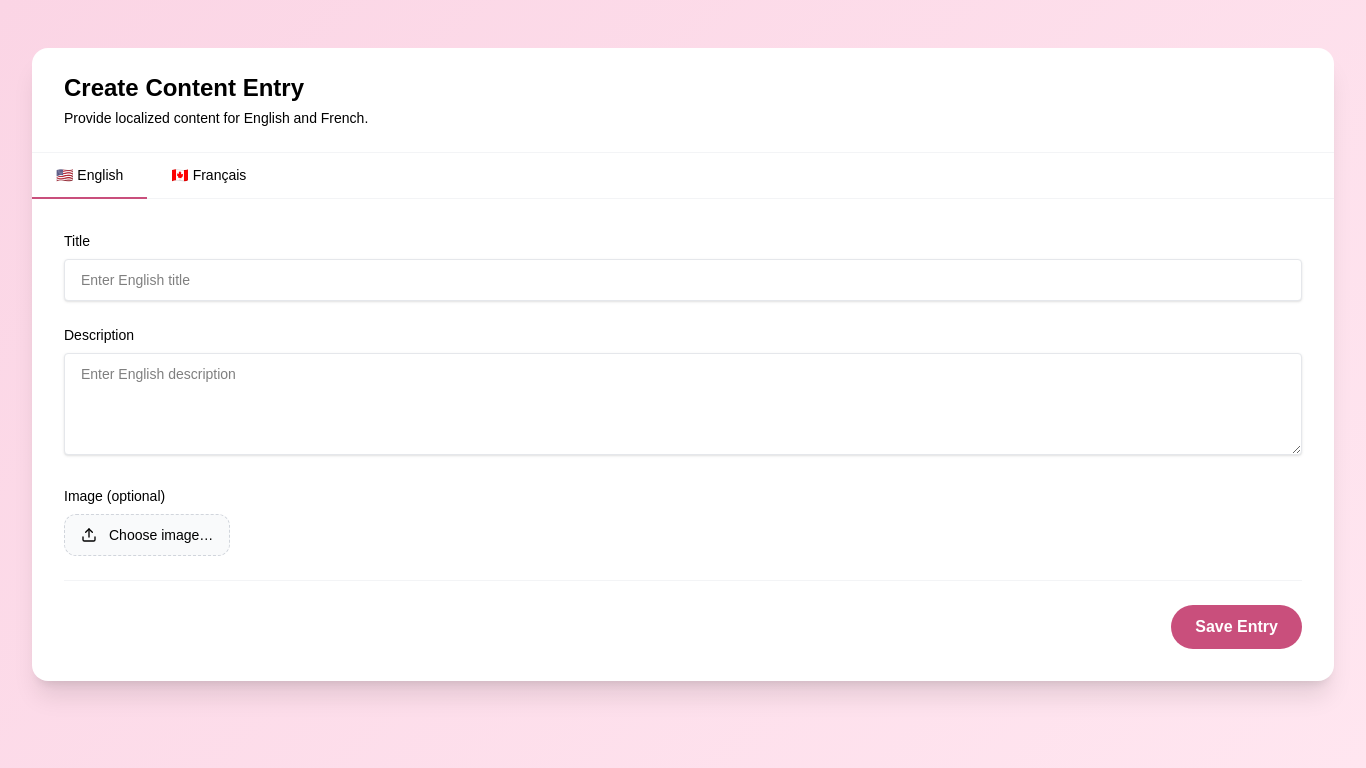
Test: ContentfulForm › Tab switching › shows French placeholders when Français tab is clicked
The image size is (1366, 768).
Click the button "🇨🇦 Français" at (209, 176), box x1=147 y1=153 x2=270 y2=199
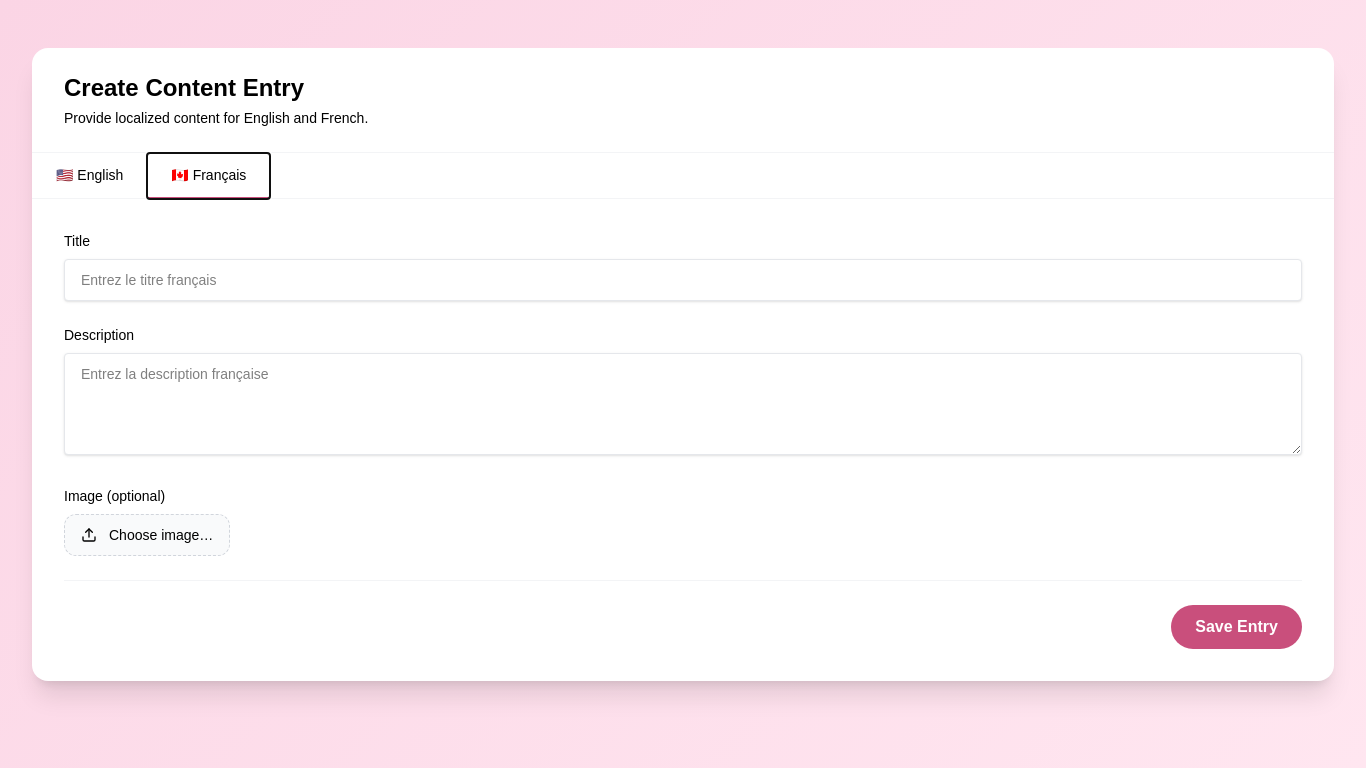
Now the field with placeholder "Entrez le titre français" is shown, box x1=64 y1=259 x2=1302 y2=301
Now the text box with placeholder "Entrez la description française" is shown, box x1=64 y1=353 x2=1302 y2=455
